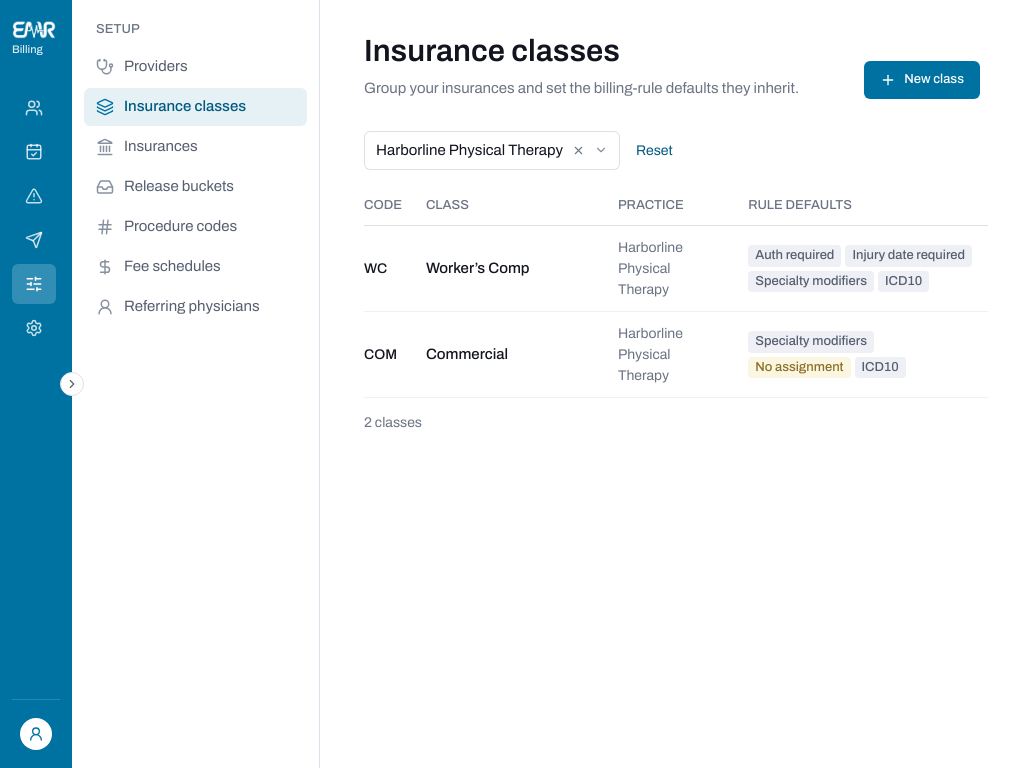
Test: Setup → Insurance classes › adds a class with its rule defaults set by switches
Click the button "New class" at (922,80), box [864,61,980,99]
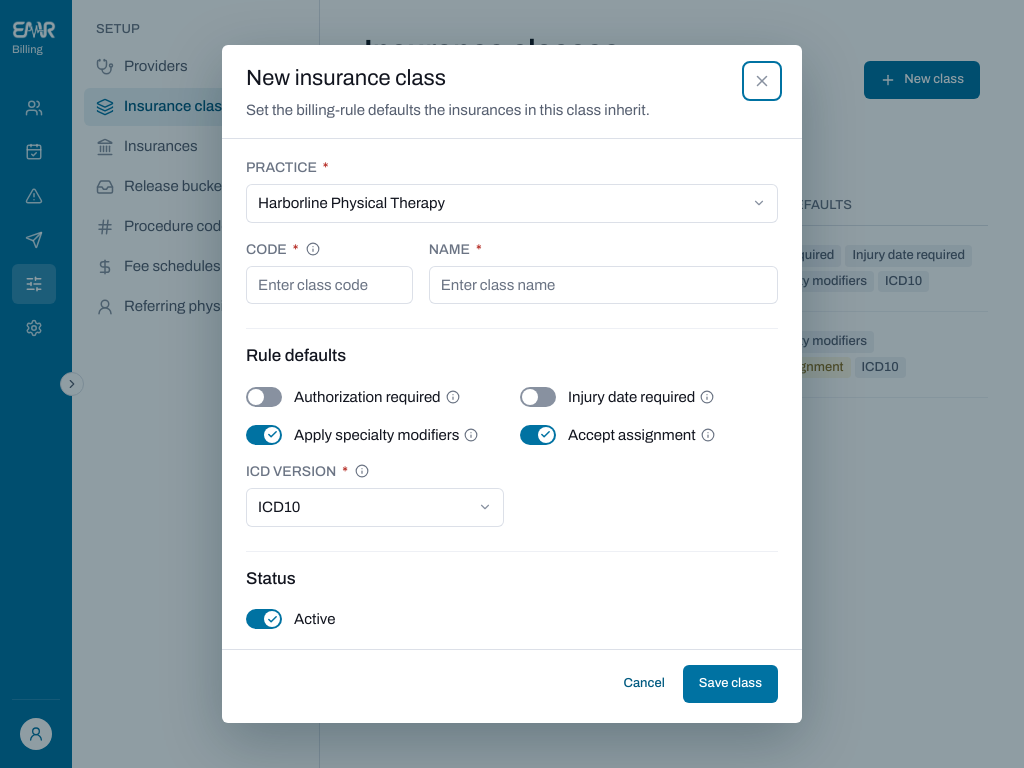
Type "hmo" into the field labelled "Code *" at (329,285), box [258,266,401,304]
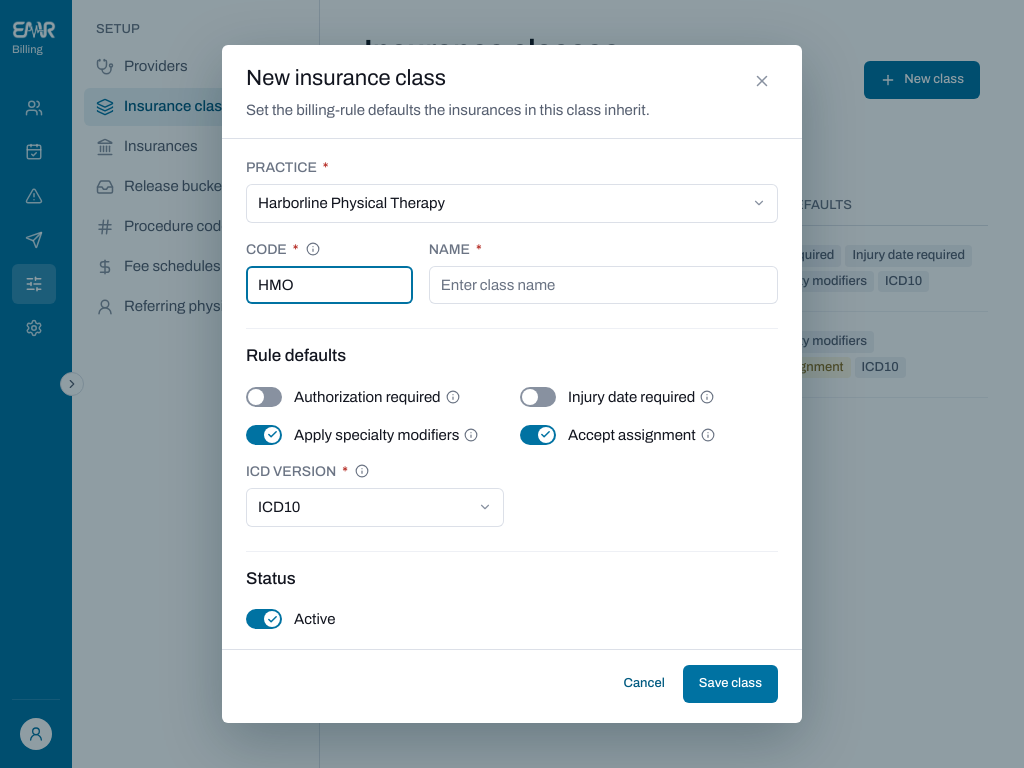
Type "HMO plans" into the field labelled "Name *" at (603,285), box [441,266,766,304]
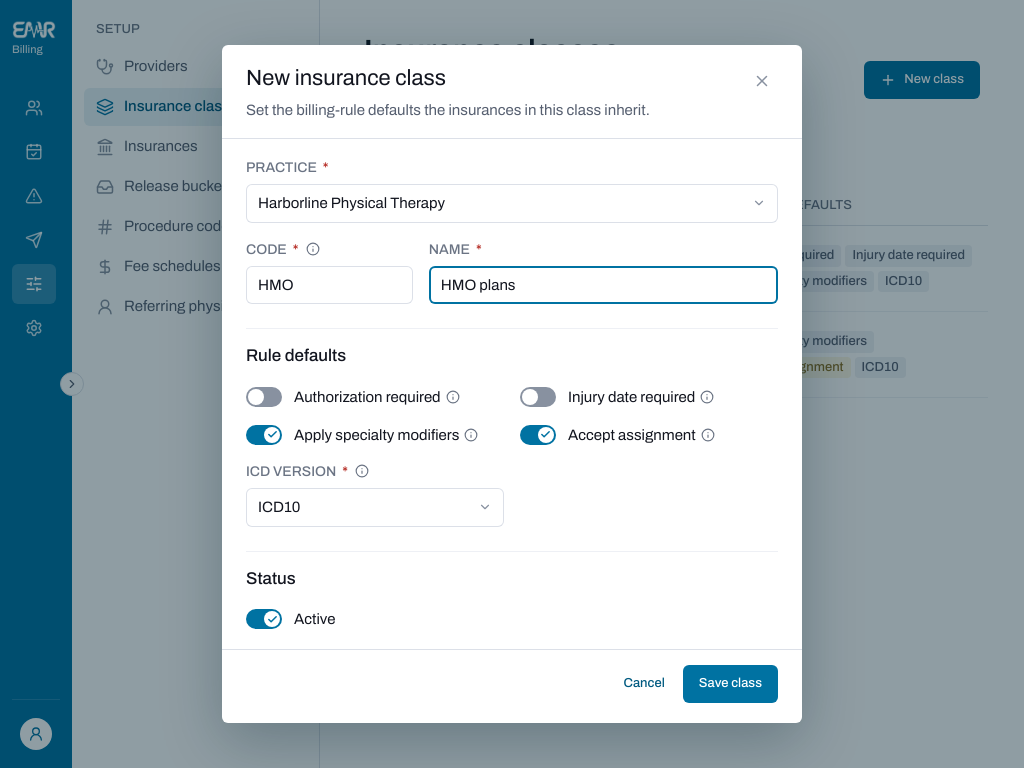
Check: the switch named "Apply specialty modifiers" next to "Apply specialty modifiers" is checked, box [246,425,282,445]
Check: the switch named "Authorization required" next to "Authorization required" is not checked
Click the switch named "Authorization required" next to "Authorization required" at (264,397), box [246,387,282,407]
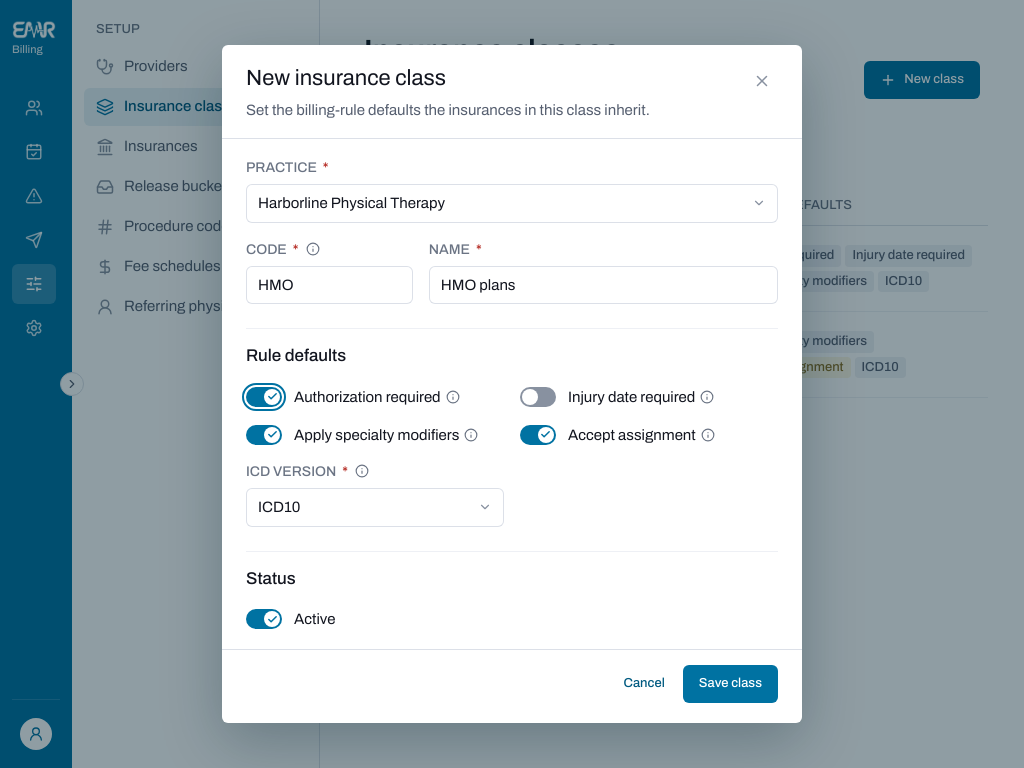
Check: the button named "About Authorization required" is shown, box [445,390,461,406]
Click the button "Save class" at (730,684), box [683,665,778,703]
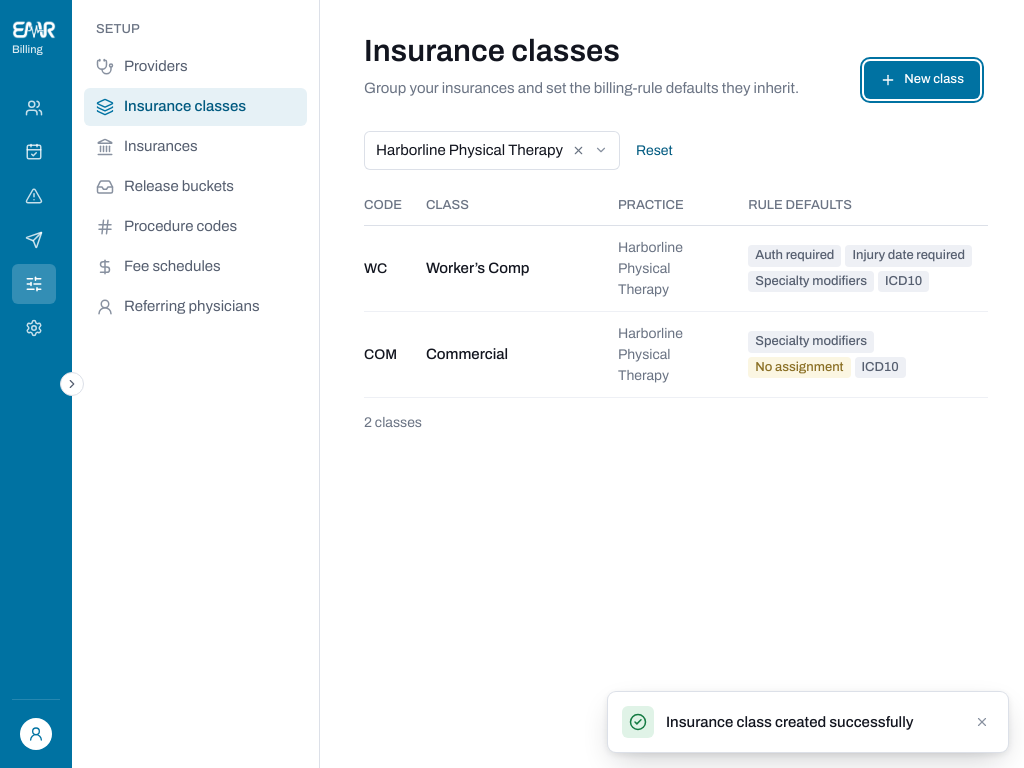
Check: the dialog is gone
